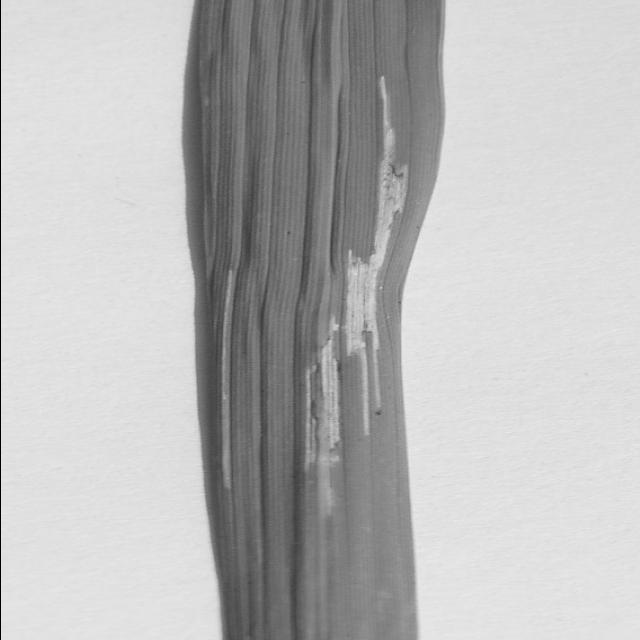Bacterial_Leaf_Blight: (280, 58, 402, 522)
